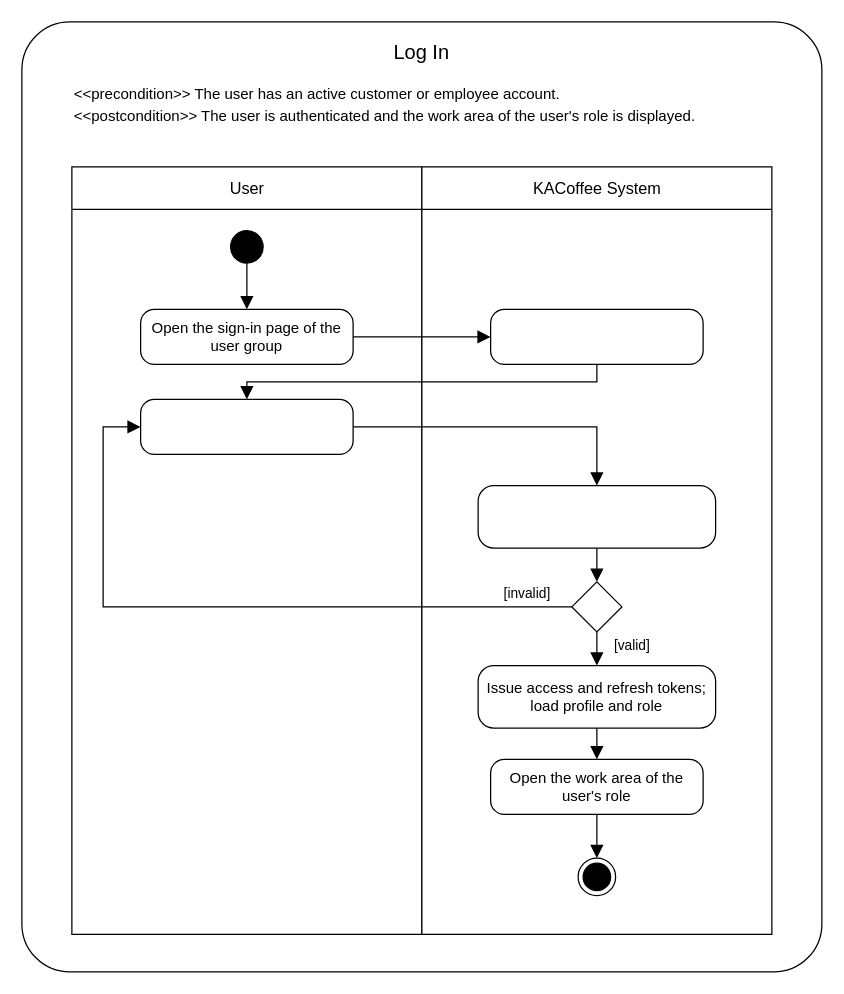
Some shapes in this 844 by 994 pixel diagram are drawn without their labels. Each missing label, with the box of its shape:
Enter credentials and submit: (139, 398, 353, 454)
Present the login form: (489, 308, 703, 364)
Verify that an active account matches the credentials: (477, 484, 716, 548)
